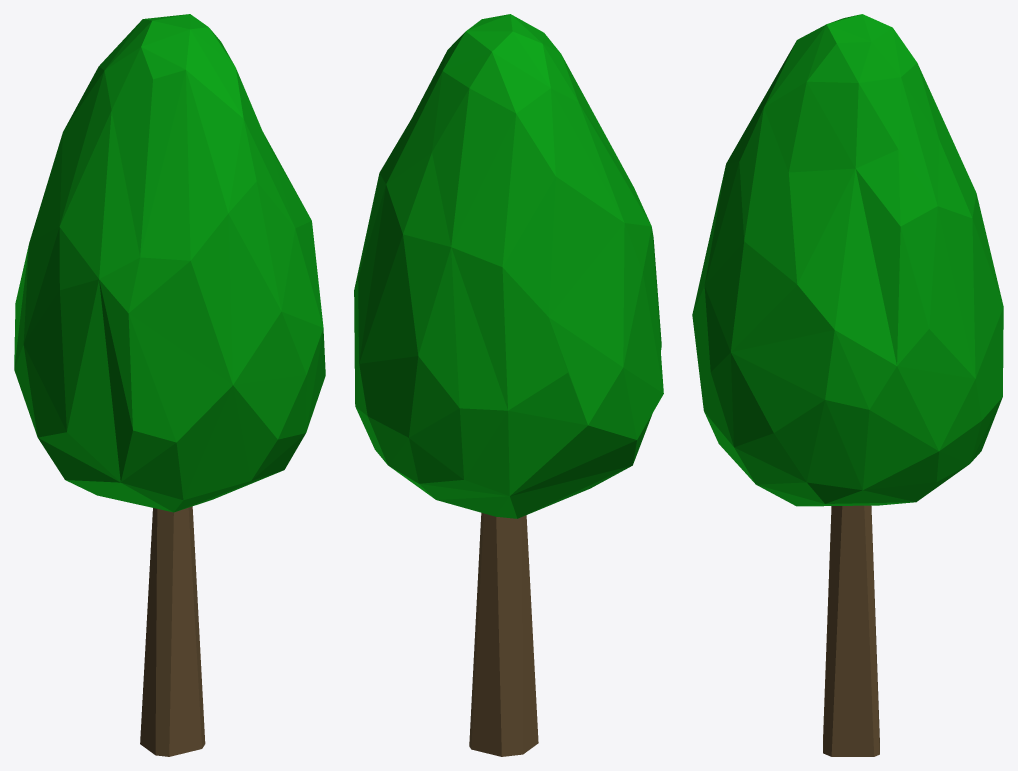
The model's file is TreeCity.fbx.
3 renders of one model, left to right at view 1: azimuth 30°, elevation 25°; view 2: azimuth 150°, elevation 25°; view 3: azimuth 270°, elevation 25°, orthographic.
Visible parts, largest first — view 1: Cube; view 2: Cube; view 3: Cube.
Boxes of the visible parts, box(x1,y1,x2,y2) form: Cube: box(14, 14, 325, 756); Cube: box(354, 14, 663, 756); Cube: box(692, 14, 1003, 756).
Bounding box in the file's own units: 432 × 1107 × 431.
